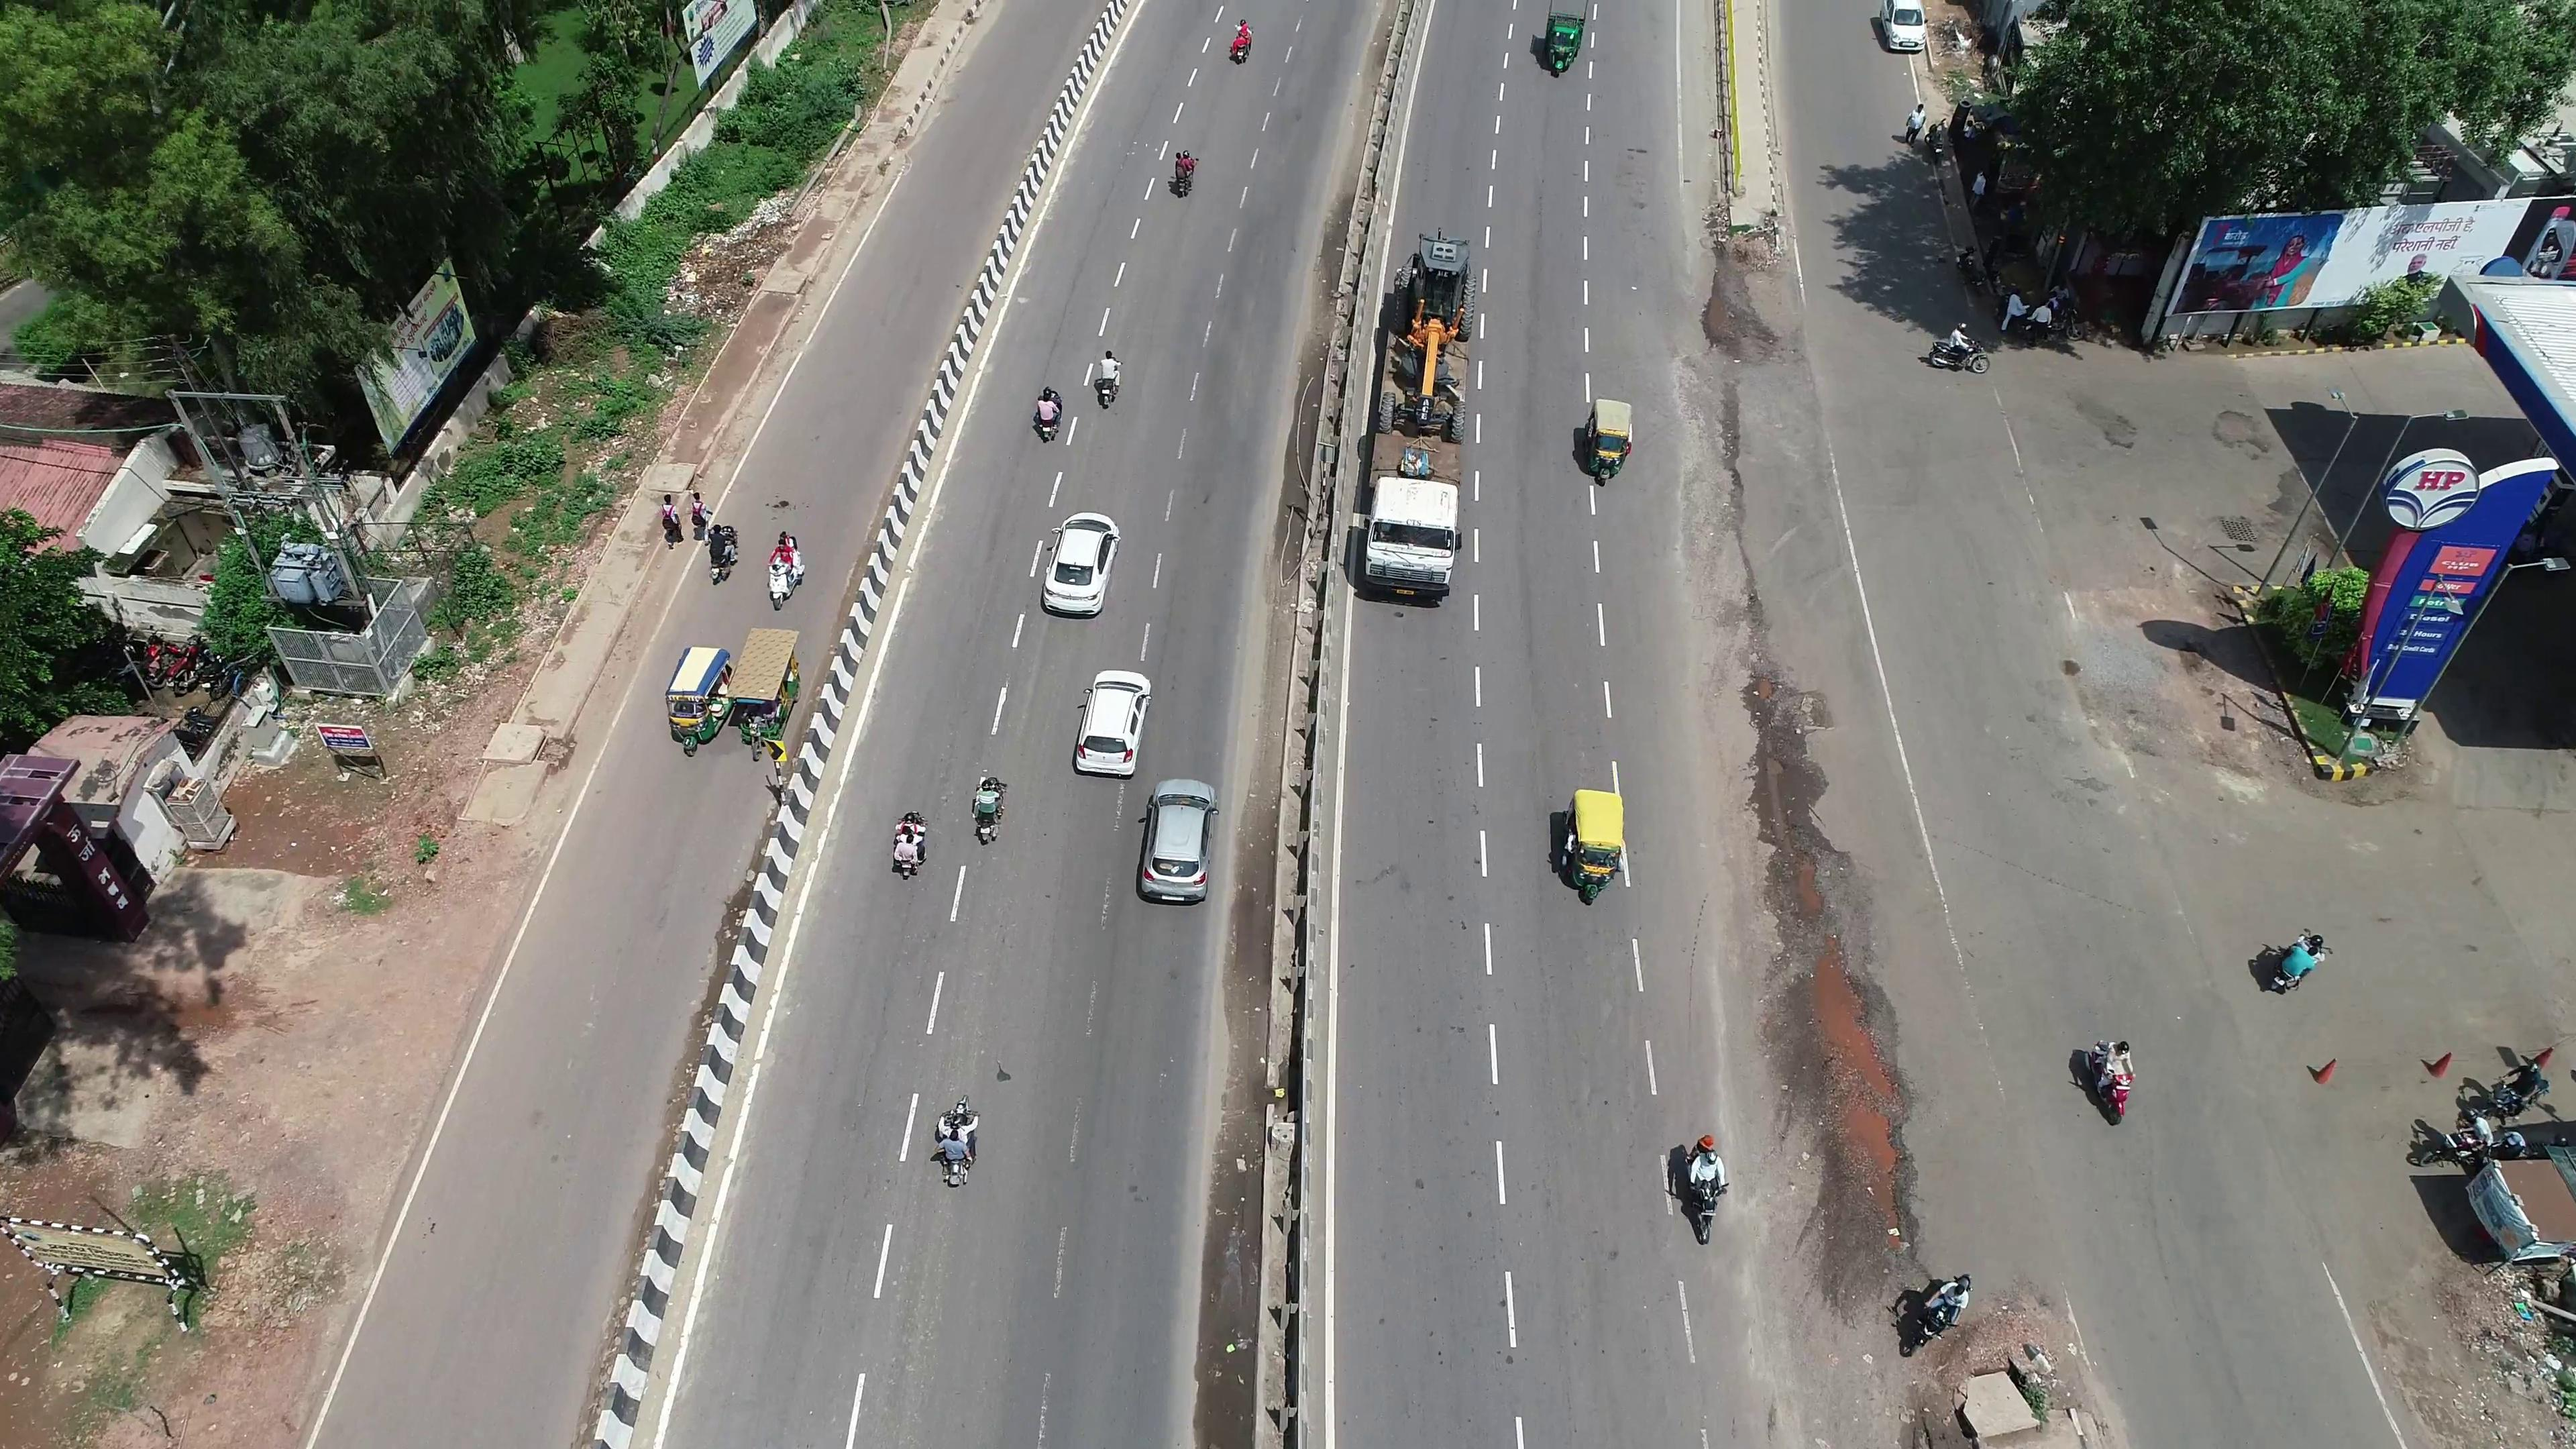Potholes: (1720, 658, 1801, 715)
